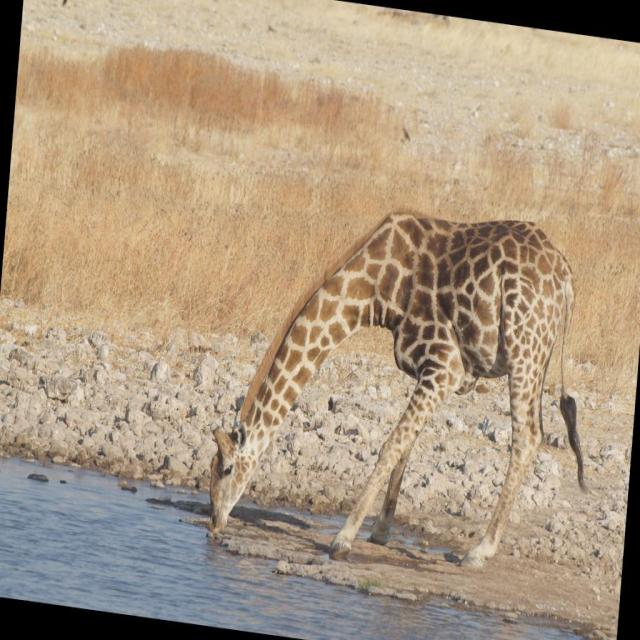Giraffe: (192, 196, 592, 577)
